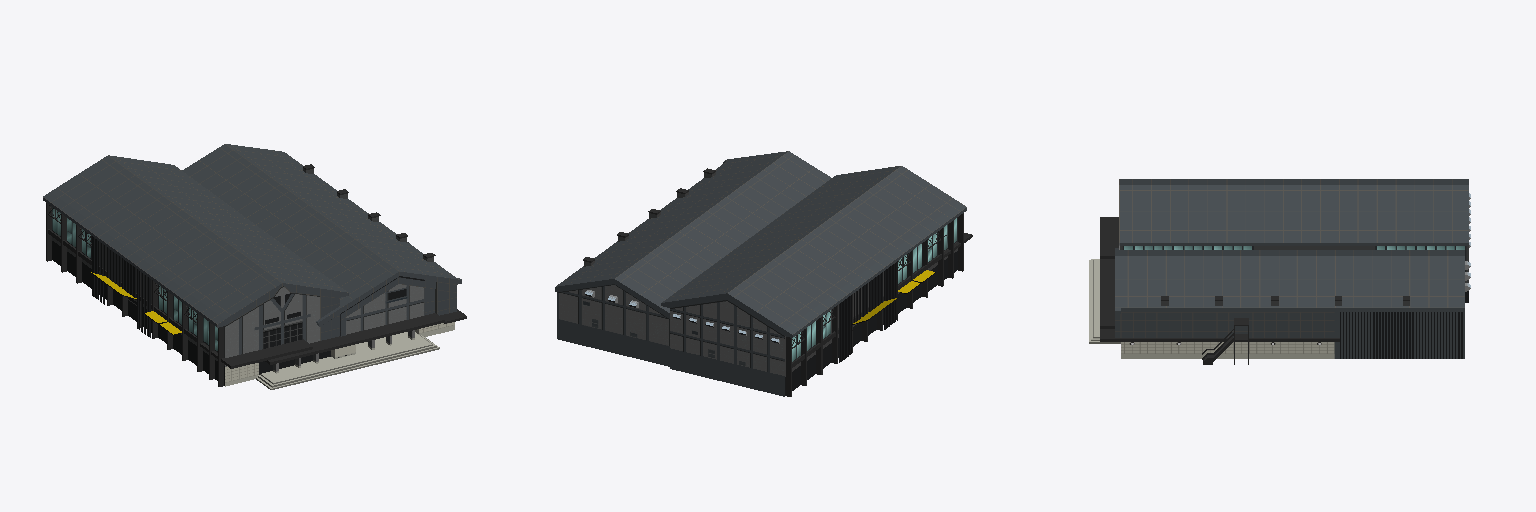
The picture shows the model from 3 angles: view 1: azimuth 30°, elevation 25°; view 2: azimuth 150°, elevation 25°; view 3: azimuth 270°, elevation 25°; orthographic projection.
Parts seen in each view (by area): view 1: MLD2; view 2: MLD2; view 3: MLD2.
Part boxes in pixels (bbox=[...]): MLD2: bbox=[43, 144, 466, 389]; MLD2: bbox=[555, 151, 972, 396]; MLD2: bbox=[1089, 179, 1470, 364].
Bounding box in the file's own units: 625 × 202 × 780.
Materials: 1 (1 with a texture image).